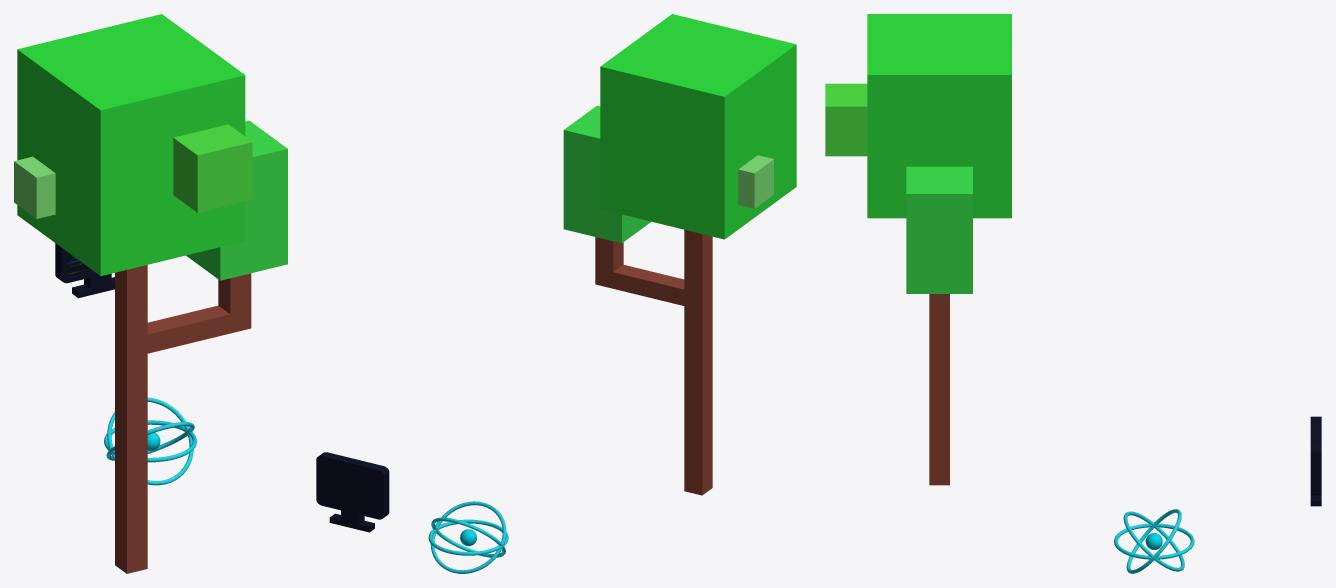
File: React.glb
The picture shows the model from 3 angles, left to right: view 1: azimuth 30°, elevation 25°; view 2: azimuth 150°, elevation 25°; view 3: azimuth 270°, elevation 25°; orthographic projection. The views are drawn at different scales.
Visible parts, largest first — view 1: tree, Cube, react2, react1, react3; view 2: tree, Cube, react3, react1, react2; view 3: tree, Cube, react1, react3, react2.
Part boxes in pixels (x1=…): tree: x1=14, y1=14, x2=287, y2=573; Cube: x1=55, y1=243, x2=114, y2=298; react2: x1=107, y1=397, x2=193, y2=485; react1: x1=104, y1=420, x2=196, y2=462; react3: x1=106, y1=422, x2=194, y2=460; tree: x1=563, y1=14, x2=796, y2=495; Cube: x1=316, y1=452, x2=389, y2=532; react3: x1=430, y1=501, x2=506, y2=573; react1: x1=428, y1=519, x2=508, y2=555; react2: x1=431, y1=517, x2=505, y2=557; tree: x1=825, y1=14, x2=1011, y2=485; Cube: x1=1310, y1=416, x2=1321, y2=506; react1: x1=1114, y1=523, x2=1194, y2=559; react3: x1=1123, y1=511, x2=1184, y2=571; react2: x1=1126, y1=509, x2=1181, y2=573.
Bounding box in the file's own units: 11.45 × 18.67 × 18.09.
Materials: 11 (1 with a texture image).
